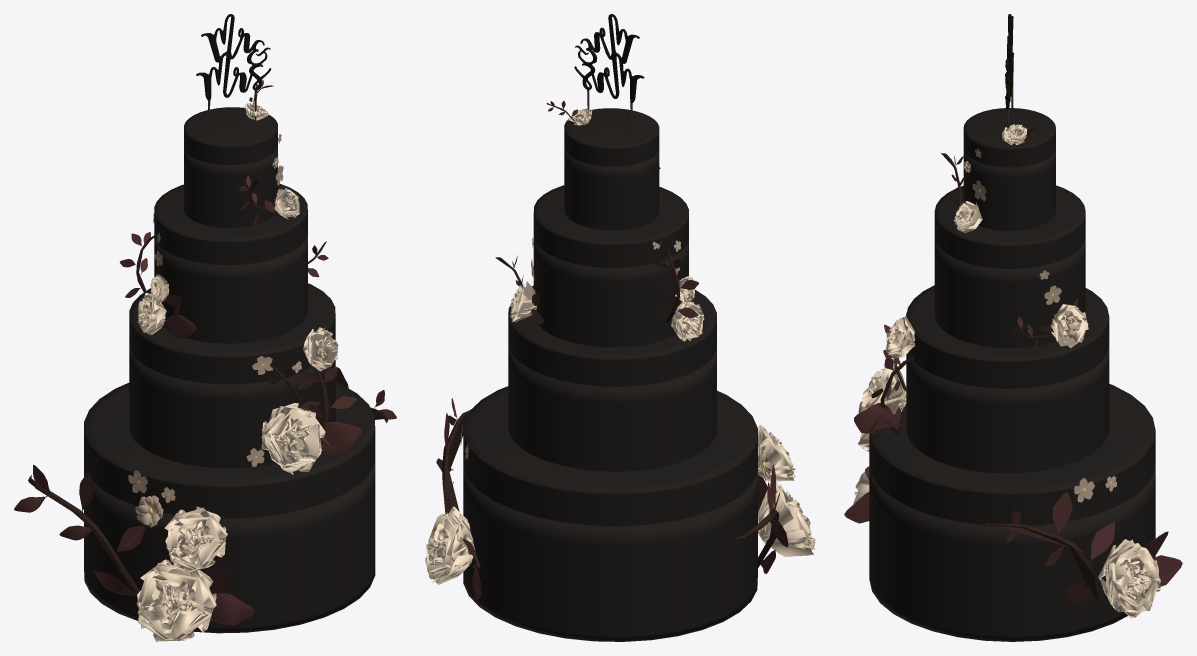
Rendered from 4-tier-black-roses-mrms.glb.
3 renders of one model, left to right at view 1: azimuth 30°, elevation 25°; view 2: azimuth 150°, elevation 25°; view 3: azimuth 270°, elevation 25°, orthographic.
Visible parts, largest first — view 1: 3.001, 3, 2, 1, grid.013, Plane.024, grid.016, grid.012, mrms.004, grid.015, Plane.009, Plane.022 (+7 smaller); view 2: 3.001, 3, 2, 1, grid.020, mrms.004, grid.013, Plane.008, Plane.024, grid.012, grid.017, Plane.023 (+1 smaller); view 3: 3.001, 3, 2, 1, grid.020, Plane.008, grid.016, grid.019, Plane.009, grid.015, mrms.004, grid.021 (+3 smaller).
Part boxes in pixels (x1=…): 3.001: x1=84, y1=382, x2=375, y2=633; 3: x1=129, y1=283, x2=335, y2=468; 2: x1=154, y1=184, x2=307, y2=343; 1: x1=184, y1=107, x2=277, y2=227; grid.013: x1=136, y1=559, x2=216, y2=641; Plane.024: x1=14, y1=465, x2=144, y2=595; grid.016: x1=261, y1=403, x2=325, y2=474; grid.012: x1=165, y1=506, x2=227, y2=572; mrms.004: x1=196, y1=14, x2=271, y2=130; grid.015: x1=303, y1=327, x2=338, y2=371; Plane.009: x1=320, y1=421, x2=362, y2=454; Plane.022: x1=210, y1=593, x2=254, y2=625; 3.001: x1=463, y1=386, x2=757, y2=641; 3: x1=508, y1=285, x2=716, y2=471; 2: x1=533, y1=185, x2=688, y2=347; 1: x1=564, y1=108, x2=659, y2=230; grid.020: x1=425, y1=506, x2=475, y2=584; mrms.004: x1=574, y1=14, x2=644, y2=133; grid.013: x1=758, y1=482, x2=815, y2=556; Plane.008: x1=436, y1=398, x2=470, y2=514; Plane.024: x1=733, y1=464, x2=788, y2=573; grid.012: x1=756, y1=424, x2=795, y2=481; grid.017: x1=671, y1=302, x2=704, y2=341; Plane.023: x1=655, y1=249, x2=698, y2=323; 3.001: x1=869, y1=384, x2=1155, y2=641; 3: x1=906, y1=285, x2=1109, y2=473; 2: x1=934, y1=185, x2=1085, y2=348; 1: x1=963, y1=108, x2=1055, y2=230; grid.020: x1=1098, y1=539, x2=1160, y2=618; Plane.008: x1=983, y1=492, x2=1115, y2=603; grid.016: x1=858, y1=365, x2=906, y2=414; grid.019: x1=1050, y1=304, x2=1088, y2=348; Plane.009: x1=854, y1=403, x2=905, y2=433; grid.015: x1=886, y1=317, x2=915, y2=358; mrms.004: x1=1005, y1=14, x2=1014, y2=128; grid.021: x1=954, y1=201, x2=982, y2=233.
Bounding box in the file's own units: 6.25 × 9.28 × 5.05.
